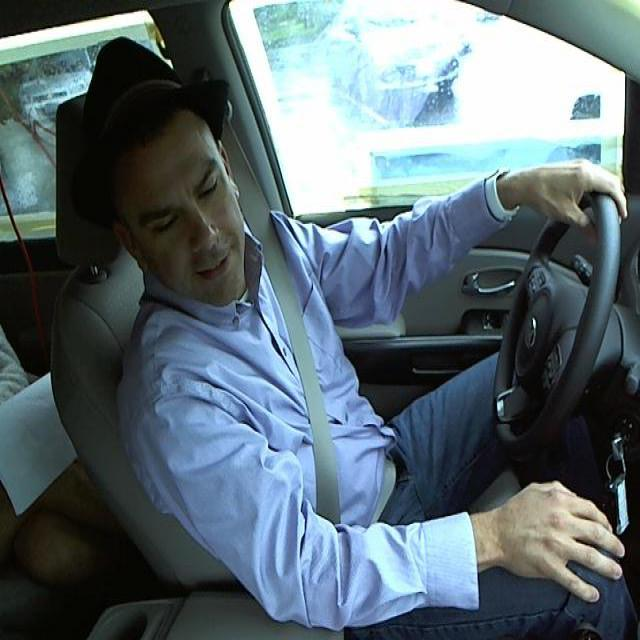seatbelt: (247, 203, 375, 524)
